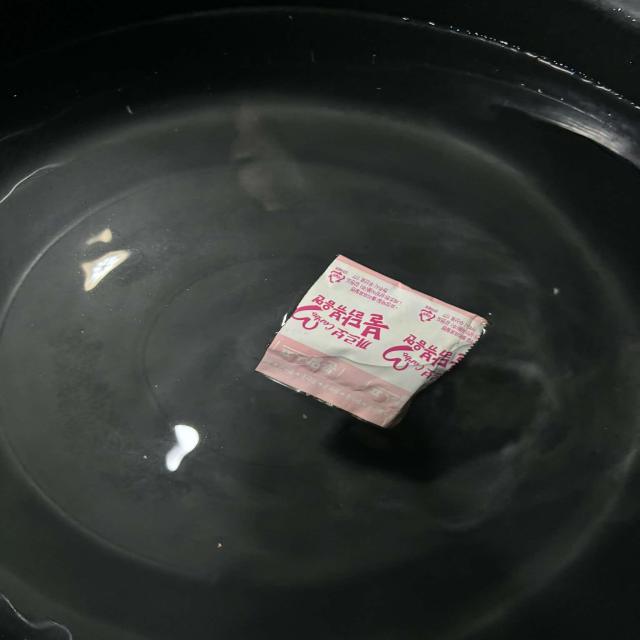Plastic Wrapper: (242, 240, 512, 440)
